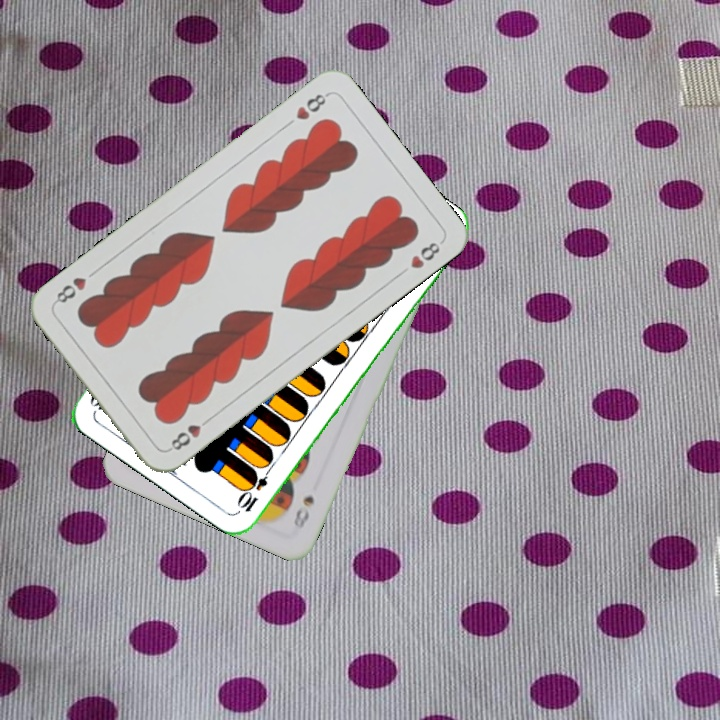E10: (235, 460, 276, 515)
H8: (164, 412, 214, 454), (291, 88, 332, 123)
S8: (289, 491, 317, 532)
